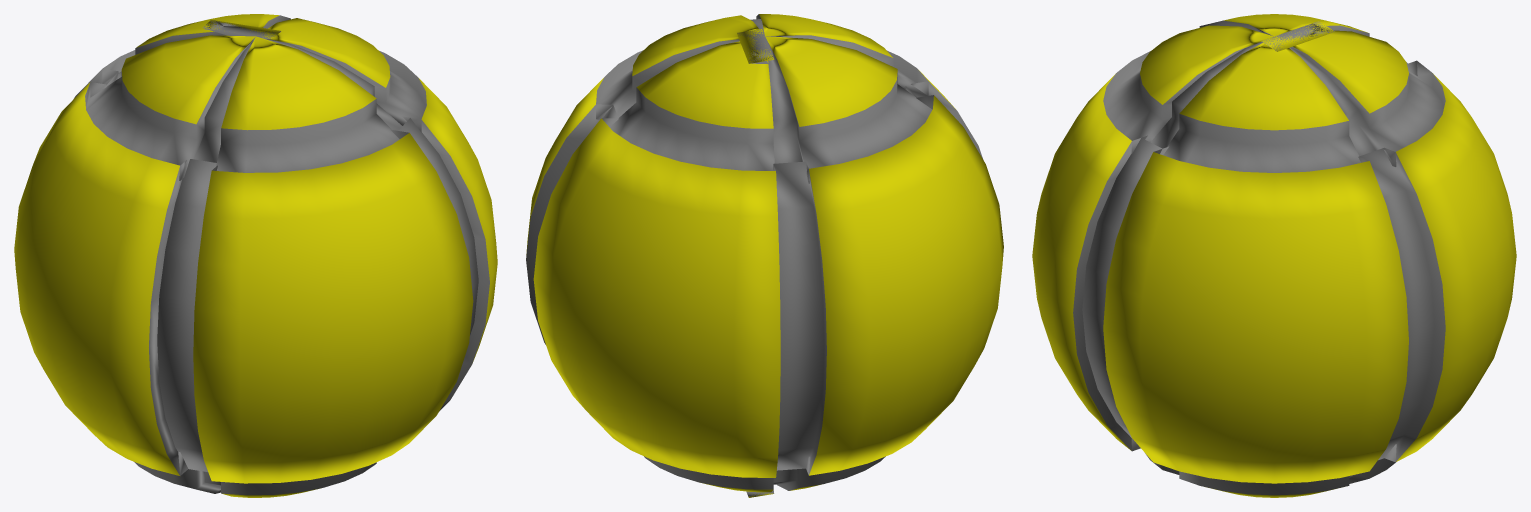
Rendered from YellowBubble.fbx.
3 views of the same model, side by side, from view 1: azimuth 30°, elevation 25°; view 2: azimuth 150°, elevation 25°; view 3: azimuth 270°, elevation 25° (orthographic).
Visible parts, largest first — view 1: Sphere; view 2: Sphere; view 3: Sphere.
Boxes of the visible parts, x1,y1,x2,y2 form: Sphere: (14, 14, 497, 497); Sphere: (526, 14, 1003, 497); Sphere: (1032, 14, 1516, 497).
Size of the model in its own units: 2 by 2.01 by 2.
